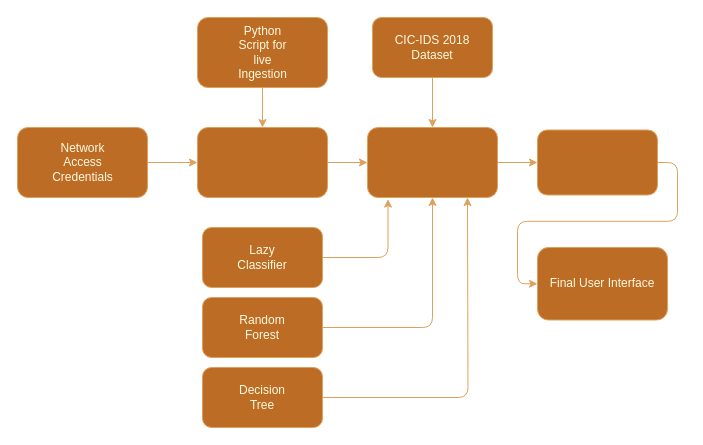
Image size: 703x445. Some labels were removed from this diagram. Each missing label, with the centre of its shape:
"Explainable AI Model" belongs at (597,162).
"Wireshark" belongs at (262,162).
"XGBoost Ensemble Model" belongs at (432,162).
